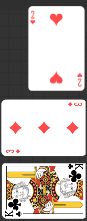2H: (76, 72, 83, 88), (29, 10, 36, 26)
3D: (4, 148, 21, 155)
